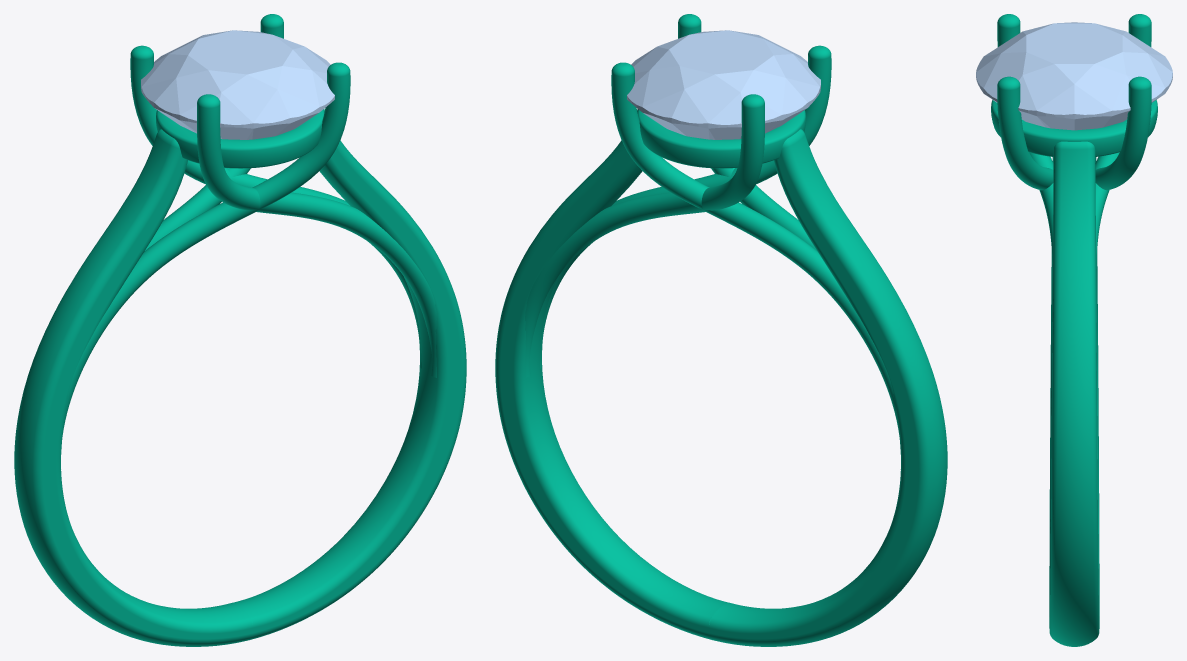
3 renders of one model, left to right at view 1: azimuth 30°, elevation 25°; view 2: azimuth 150°, elevation 25°; view 3: azimuth 270°, elevation 25°, orthographic.
Parts seen in each view (by area): view 1: for website.3dm, Diamond_Round; view 2: for website.3dm, Diamond_Round; view 3: for website.3dm, Diamond_Round.
Part boxes in pixels (x1,y1,x2,y2): for website.3dm: (14, 14, 466, 646); Diamond_Round: (141, 30, 334, 139); for website.3dm: (495, 14, 947, 646); Diamond_Round: (627, 30, 820, 139); for website.3dm: (991, 14, 1157, 646); Diamond_Round: (976, 22, 1172, 130).
Bounding box in the file's own units: 2.41 × 3.05 × 0.9409.
